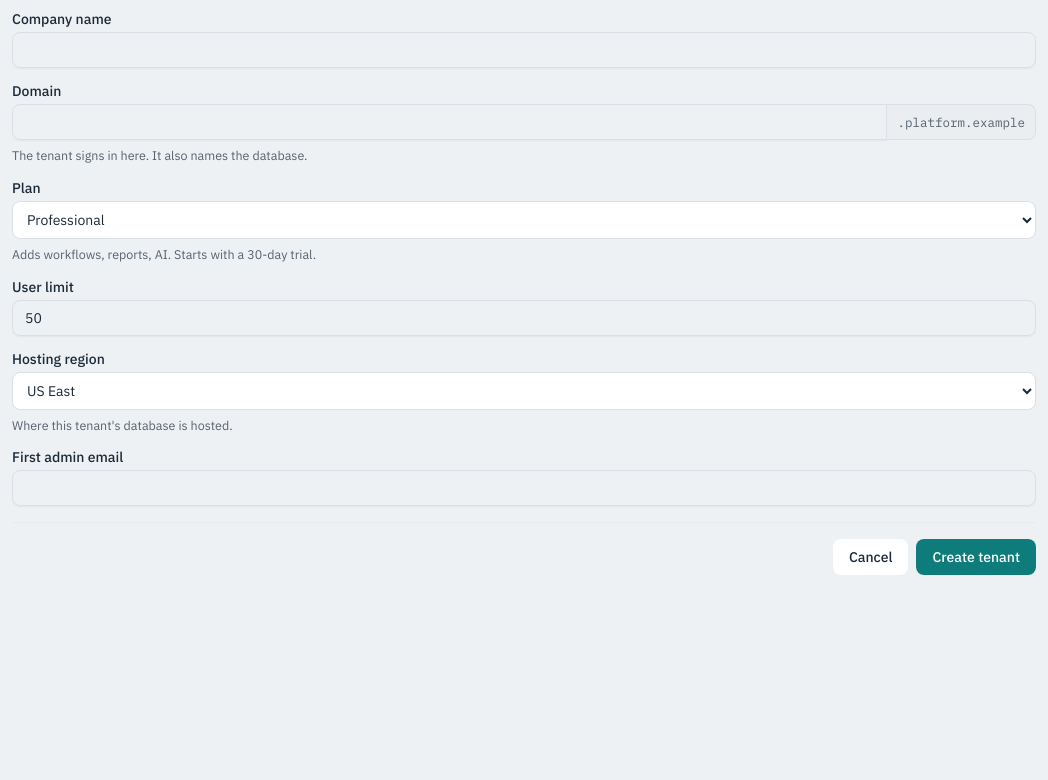
Test case: CreateTenantForm › validation › shows every message from the demo and sends nothing
Step 1. Clear the number field labelled "User limit" → (524, 318), box [12, 300, 1036, 336]
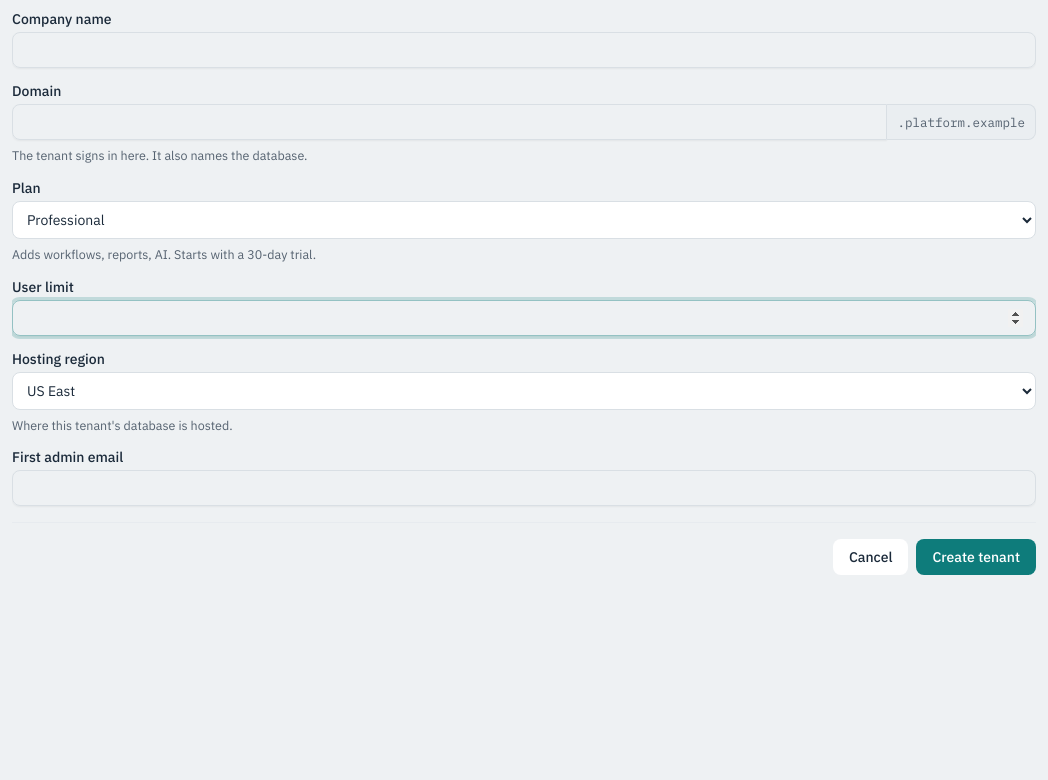
Step 2. Click the button "Create tenant" → (976, 557), box [916, 539, 1036, 575]
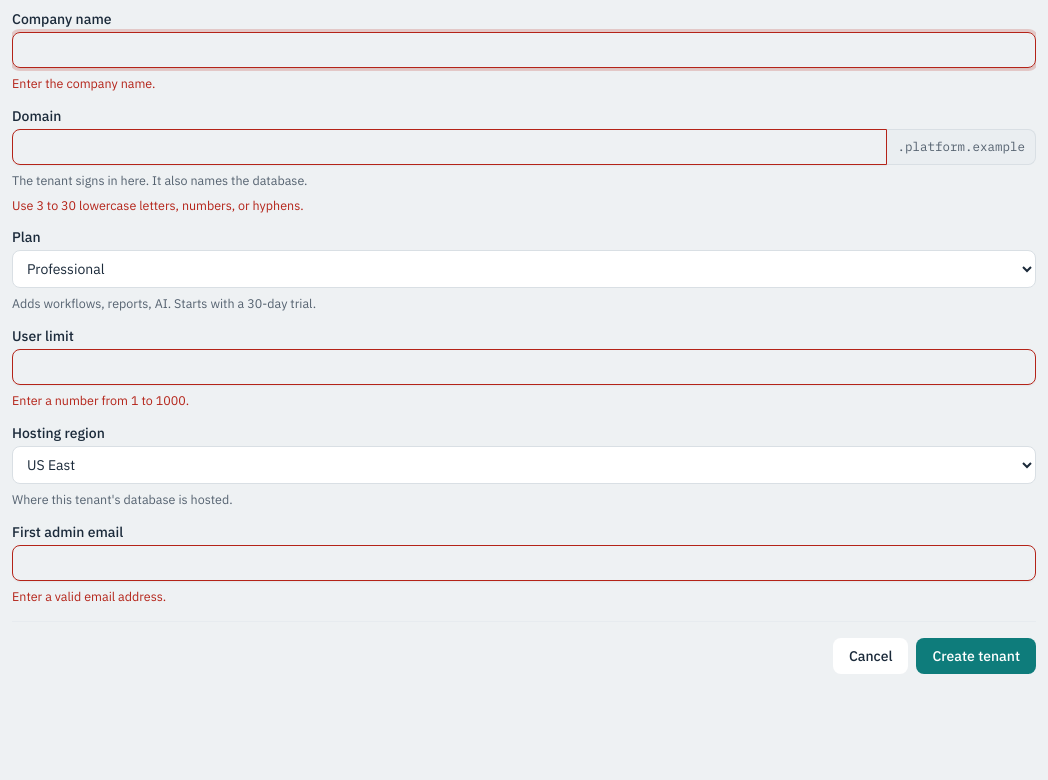
Result: the text "Enter the company name." is shown at [12, 75, 155, 91]
Result: the text "Use 3 to 30 lowercase letters, numbers, or hyphens." is shown at [12, 196, 304, 212]
Result: the text "Enter a number from 1 to 1000." is shown at [12, 392, 189, 408]
